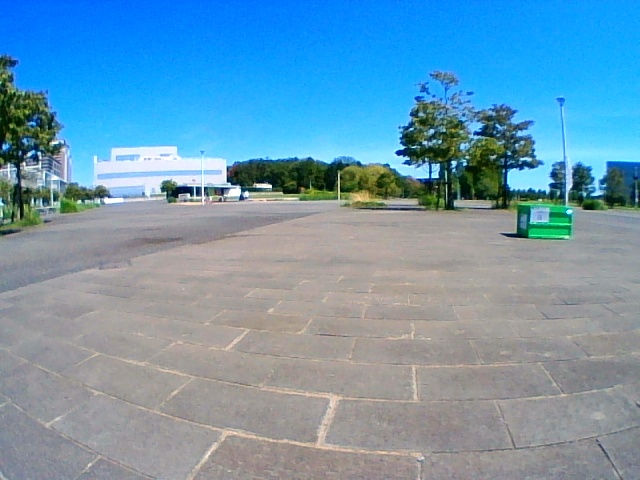green_box: (516, 203, 571, 238)
tag: (531, 208, 548, 223)
